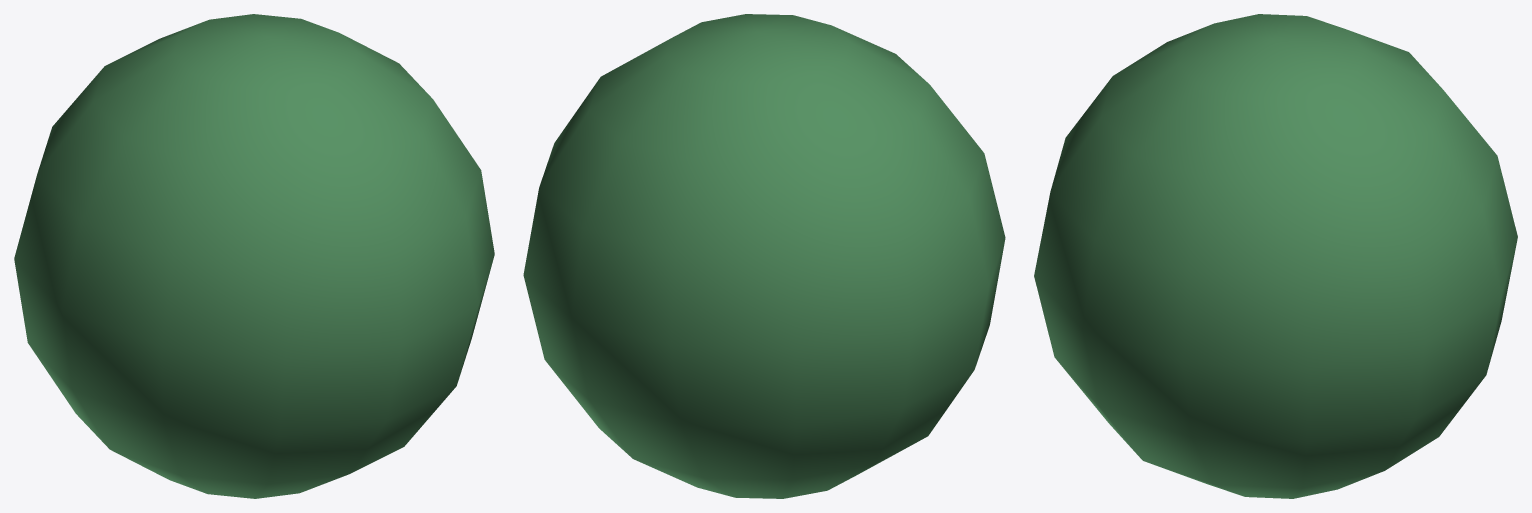
3 renders of one model, left to right at view 1: azimuth 30°, elevation 25°; view 2: azimuth 150°, elevation 25°; view 3: azimuth 270°, elevation 25°, orthographic.
Visible parts, largest first — view 1: 右侧腹股沟深淋巴结近侧组; view 2: 右侧腹股沟深淋巴结近侧组; view 3: 右侧腹股沟深淋巴结近侧组.
Part boxes in pixels (x1,y1,x2,y2): 右侧腹股沟深淋巴结近侧组: [14, 14, 494, 498]; 右侧腹股沟深淋巴结近侧组: [523, 14, 1005, 498]; 右侧腹股沟深淋巴结近侧组: [1034, 14, 1517, 498].
Bounding box in the file's own units: 0.00379 × 0.00383 × 0.0038.
